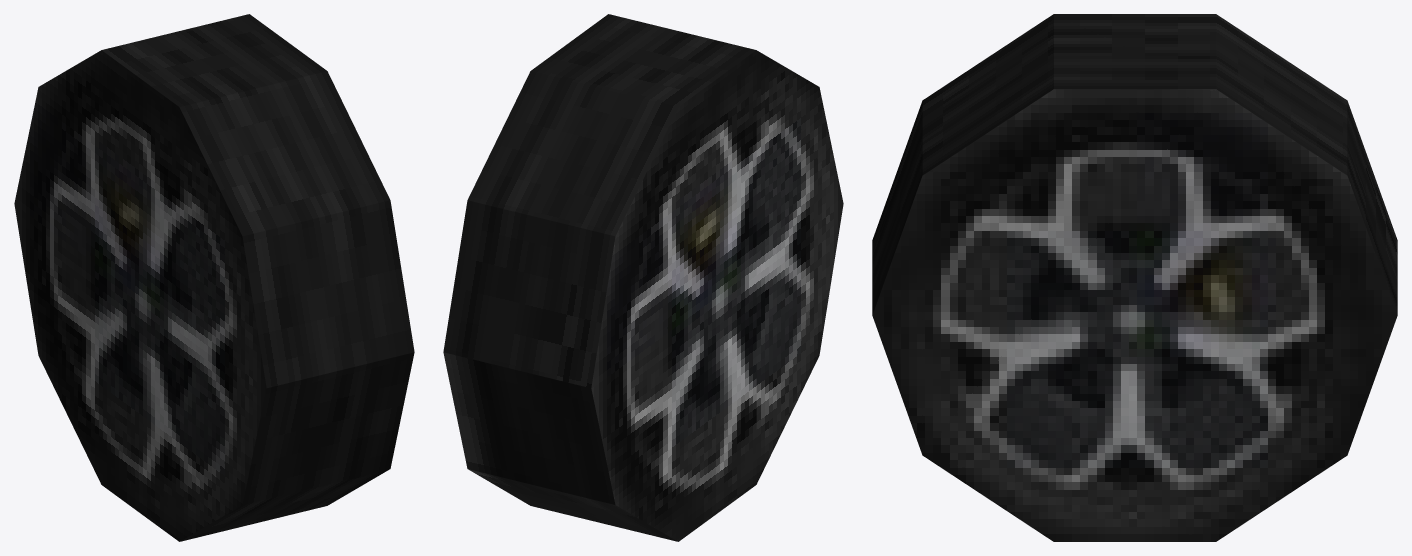
The model's file is Wheel.glb.
3 views of the same model, side by side, from view 1: azimuth 30°, elevation 25°; view 2: azimuth 150°, elevation 25°; view 3: azimuth 270°, elevation 25° (orthographic). The views are drawn at different scales.
Parts seen in each view (by area): view 1: Cylinder.001; view 2: Cylinder.001; view 3: Cylinder.001.
Part boxes in pixels (bbox=[...]): Cylinder.001: bbox=[14, 14, 414, 541]; Cylinder.001: bbox=[443, 14, 843, 541]; Cylinder.001: bbox=[872, 14, 1397, 541].
Bounding box in the file's own units: 0.3896 × 1.09 × 1.15.
1 material, 1 textured.
